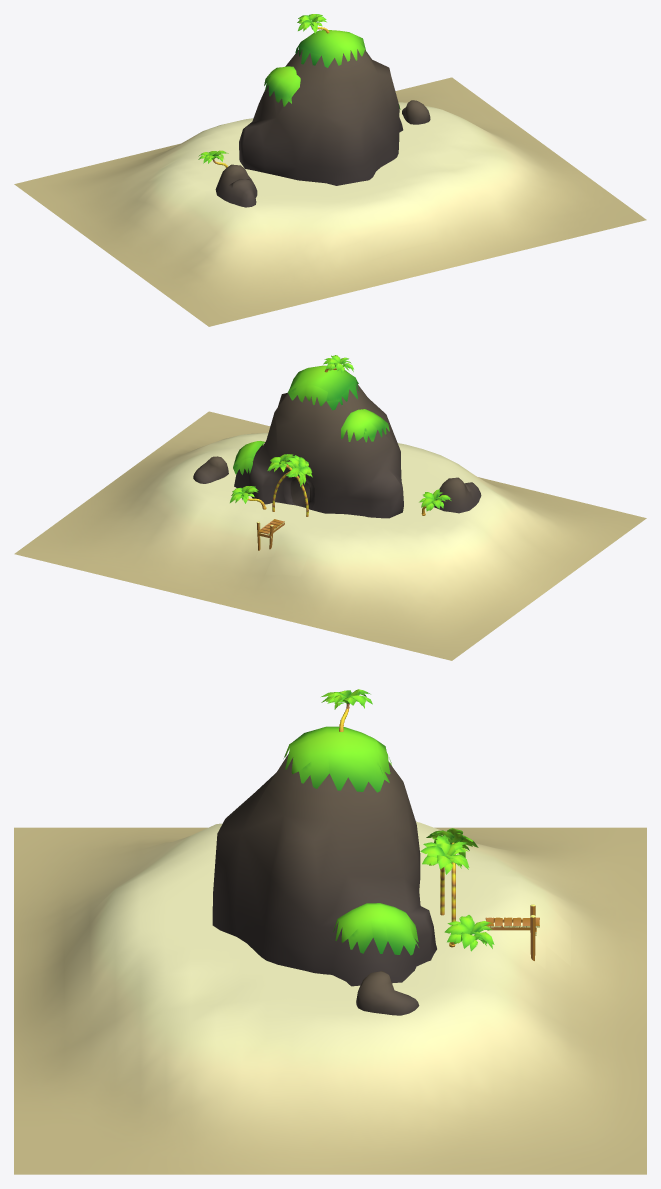
File: island_b.glb
The picture shows the model from 3 angles, top to bottom: view 1: azimuth 30°, elevation 25°; view 2: azimuth 150°, elevation 25°; view 3: azimuth 270°, elevation 25°; orthographic projection. The views are drawn at different scales.
Visible parts, largest first — view 1: ISLAND, MAIN_ROCK, GRASS_3, rock_2, GRASS_2, rock; view 2: ISLAND, MAIN_ROCK, GRASS_3, rock_2, GRASS_2, rock, PALM_1, GRASS; view 3: ISLAND, MAIN_ROCK, GRASS_3, GRASS, rock, PALM_2, Cylinder_3, Cube_9, PALM_1.
Part boxes in pixels (x1,y1,x2,y2): ISLAND: (14, 77, 646, 326); MAIN_ROCK: (239, 49, 403, 185); GRASS_3: (295, 30, 366, 67); rock_2: (215, 164, 257, 207); GRASS_2: (264, 66, 300, 106); rock: (402, 100, 430, 124); ISLAND: (14, 411, 646, 660); MAIN_ROCK: (234, 383, 403, 518); GRASS_3: (287, 365, 358, 410); rock_2: (434, 477, 481, 513); GRASS_2: (341, 409, 389, 442); rock: (193, 456, 228, 483); PALM_1: (272, 455, 312, 511); GRASS: (233, 441, 264, 474); ISLAND: (14, 821, 646, 1174); MAIN_ROCK: (212, 754, 436, 986); GRASS_3: (283, 726, 391, 792); GRASS: (333, 903, 418, 955); rock: (356, 971, 419, 1015); PALM_2: (420, 835, 469, 915); Cylinder_3: (444, 915, 494, 951); Cube_9: (485, 904, 539, 960); PALM_1: (426, 828, 478, 925).
Size of the model in its own units: 252 by 101 by 194.
Materials: 1 (1 with a texture image).
